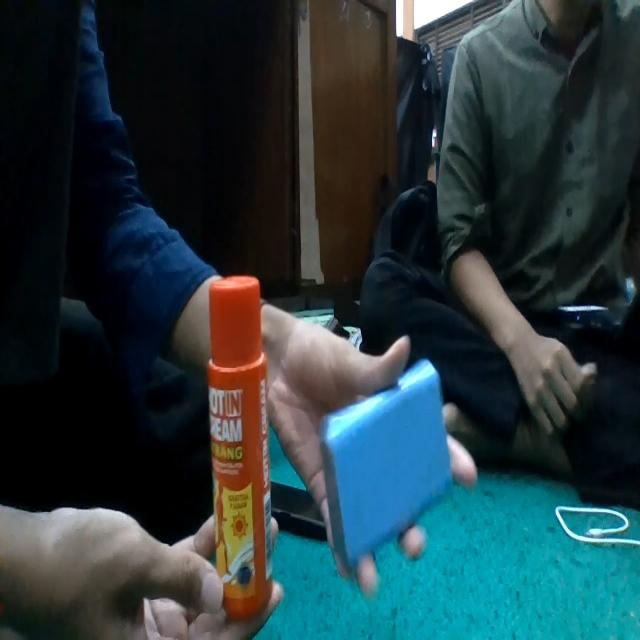Boncabe: (208, 277, 272, 620)
Powerbank: (320, 360, 452, 584)
